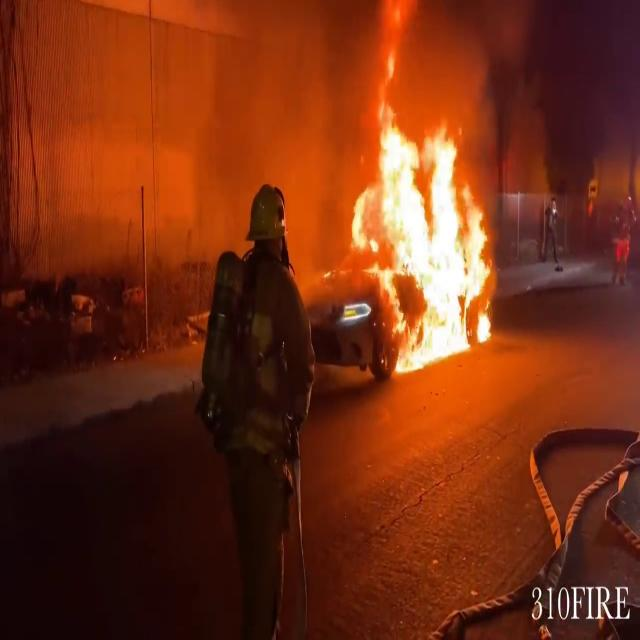Fire: (344, 75, 503, 372)
